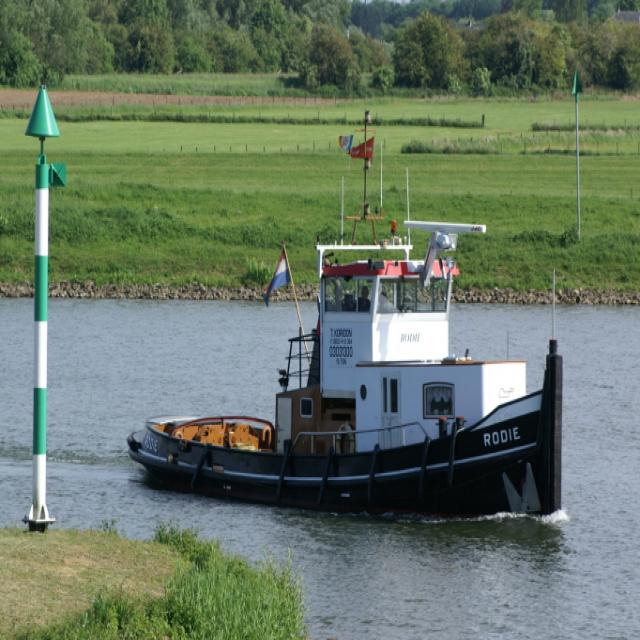tugboat: (125, 204, 570, 531)
